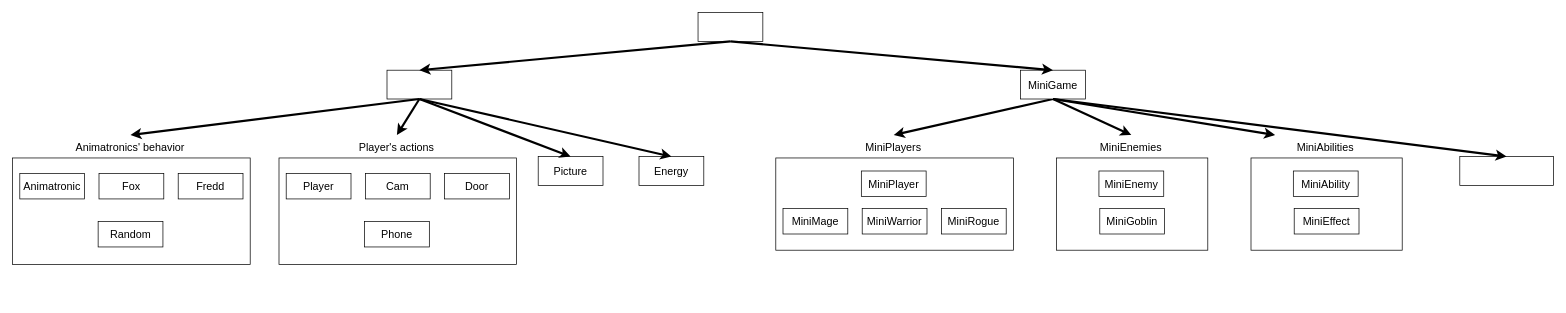
The diagram is 1566 pixels wide and 313 high, and some of its shapes have lost their labels. The shapes that lost their labels are listed below. From the top down, each one's centre as x and y in pixels, then its label:
At (730,26): "Menu".
At (419,84): "Game".
At (1506,170): "MiniBattleSystem".
